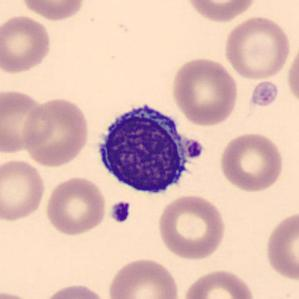Lymphocyte: (90, 96, 204, 198)
Platelets: (248, 80, 280, 109), (109, 200, 132, 224), (184, 139, 206, 161)
RBC: (169, 55, 240, 127), (20, 95, 90, 168), (155, 193, 228, 261), (222, 14, 292, 81), (217, 130, 286, 194), (43, 175, 108, 237), (0, 87, 54, 156), (105, 256, 182, 299), (0, 13, 53, 75), (0, 158, 47, 224), (262, 208, 298, 283), (182, 267, 257, 299), (183, 0, 258, 24), (18, 0, 87, 22), (40, 281, 110, 299), (285, 39, 299, 108), (0, 289, 41, 299)
